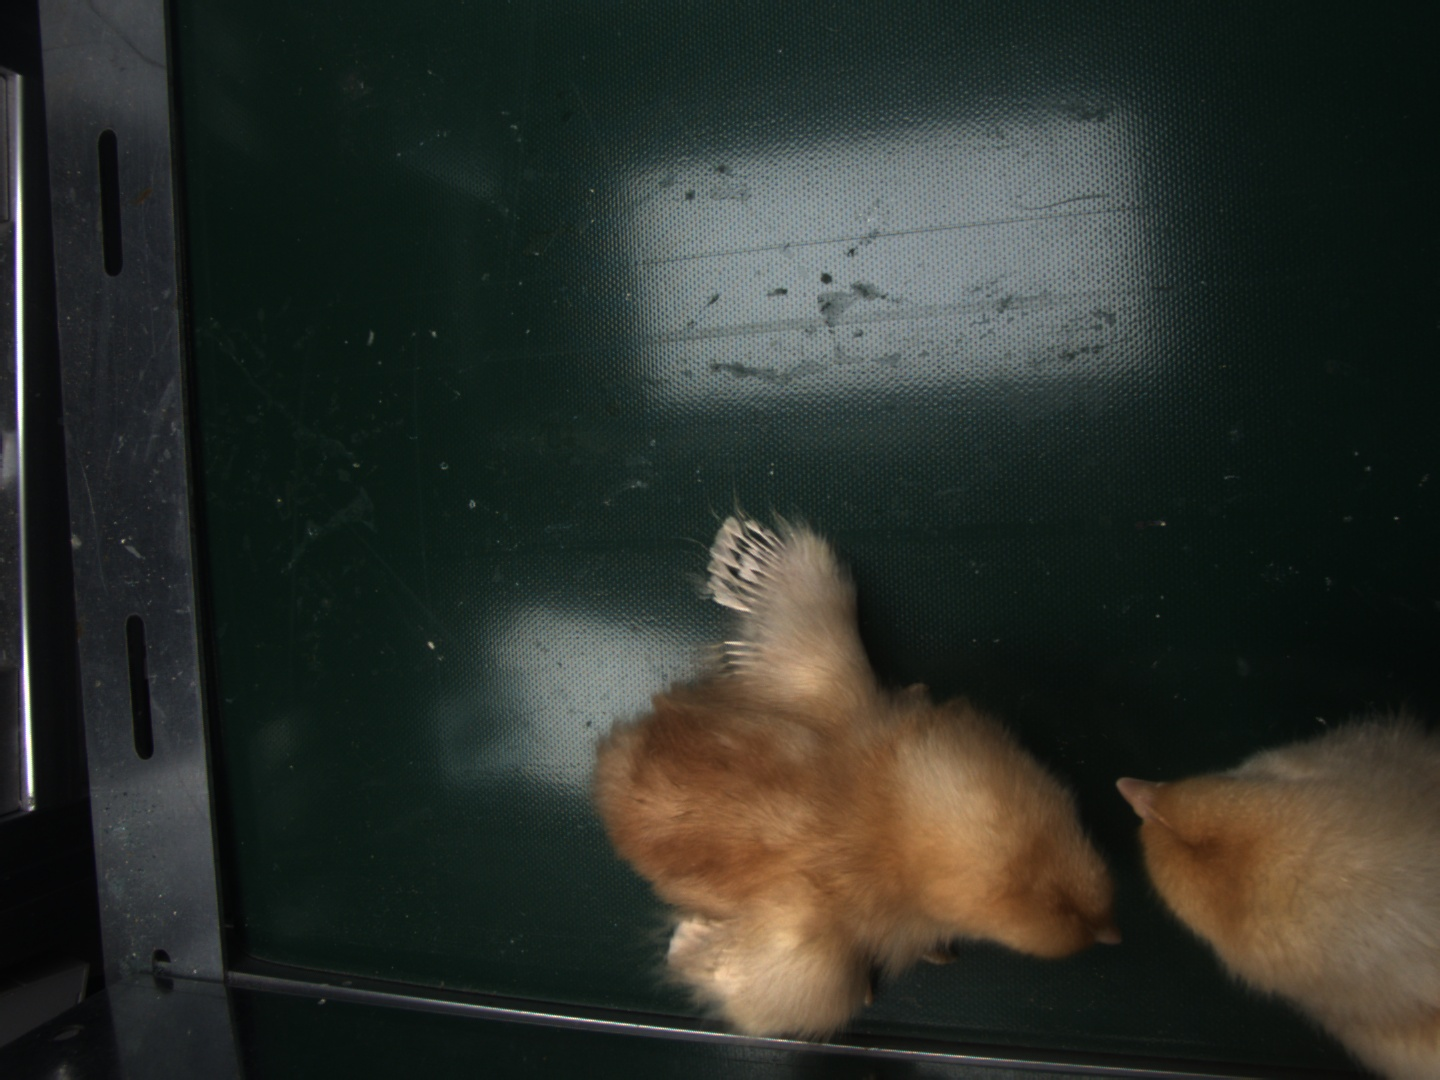female: (708, 516, 791, 614)
